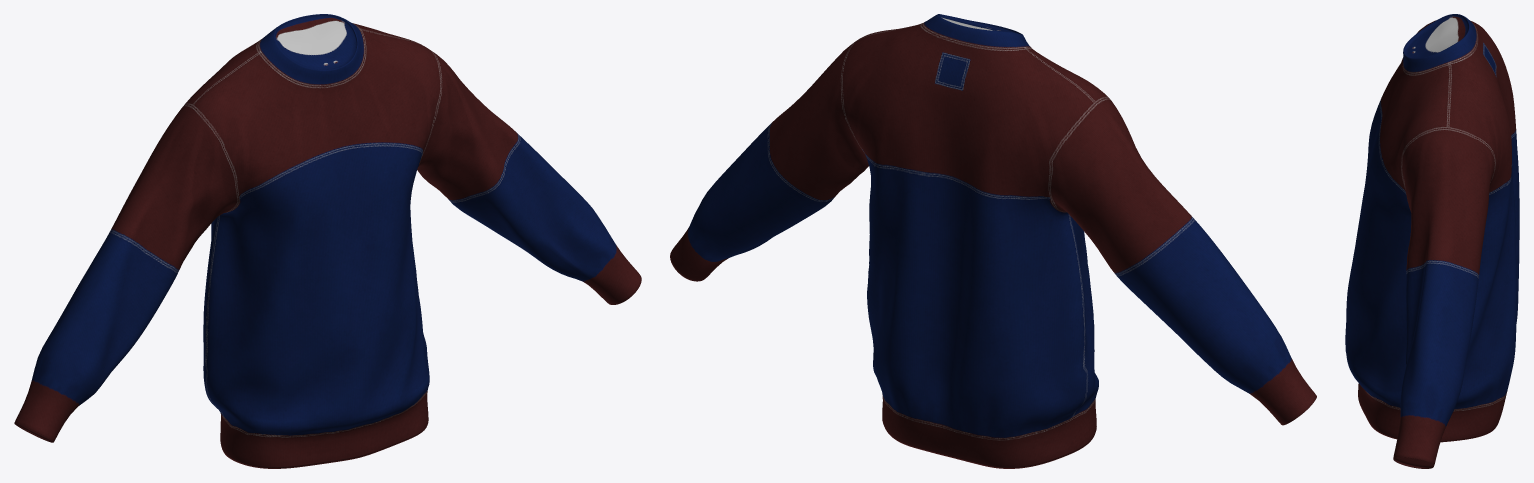
File: crewneck.glb
3 renders of one model, left to right at view 1: azimuth 30°, elevation 25°; view 2: azimuth 150°, elevation 25°; view 3: azimuth 270°, elevation 25°, orthographic. The views are drawn at different scales.
Visible parts, largest first — view 1: Plane; view 2: Plane; view 3: Plane.
Boxes of the visible parts, <box> form: Plane: <box>14,14,641,468</box>; Plane: <box>670,14,1316,468</box>; Plane: <box>1345,14,1519,468</box>.
Bounding box in the file's own units: 11.58 × 7.28 × 3.01.
Materials: 1 (1 with a texture image).
